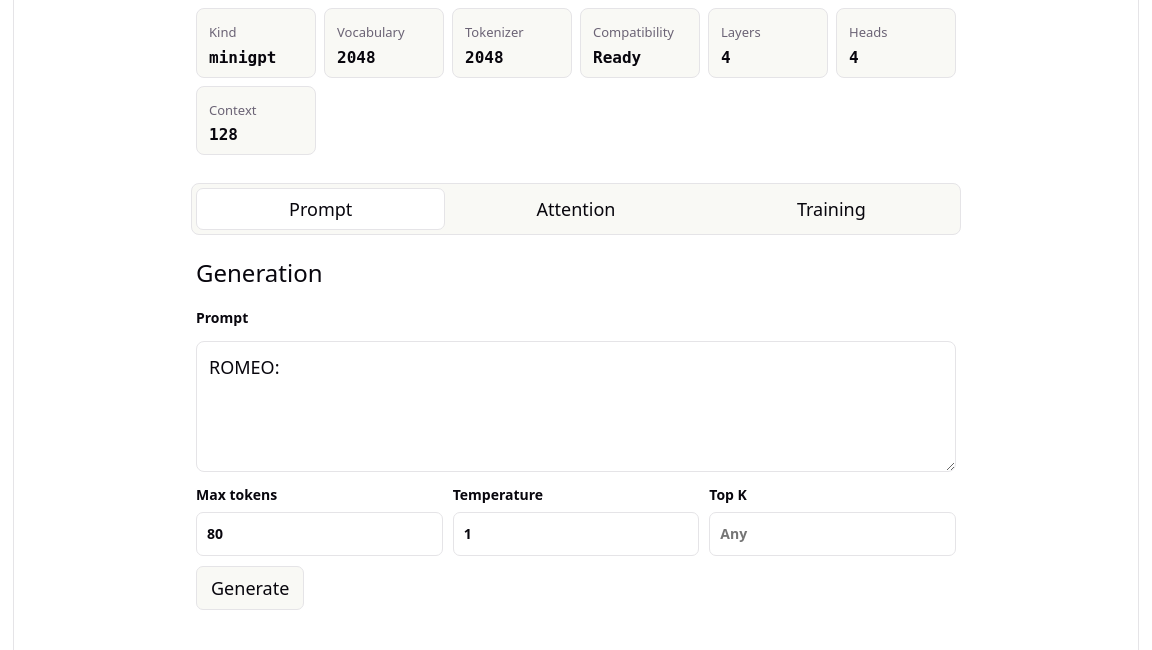
Test: attention UI behavior › highlights the attention row for selected tokens inside the attention context window
(page scrolled)
Click the button "Generate": [250, 588] box [196,566,304,610]
(page scrolled)
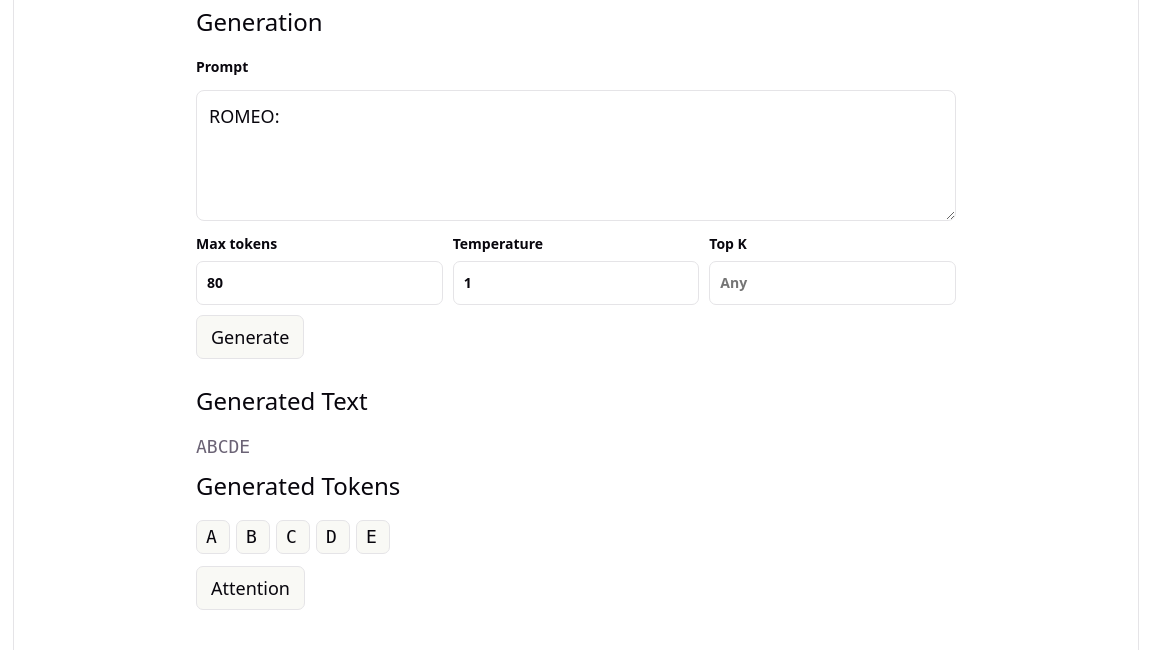
Now the text "ABCDE" is shown, box [196,436,250,457]
Click the button "D": [333, 537] box [316,520,350,554]
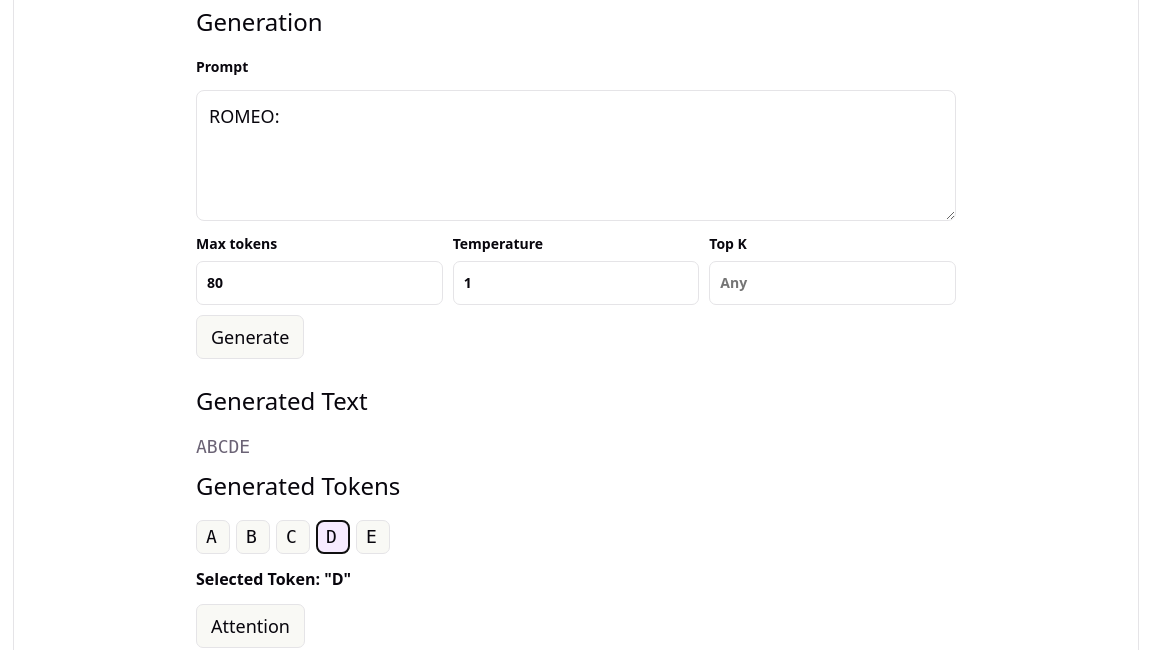
Click the button "Attention": [250, 626] box [196,604,305,648]
(page scrolled)
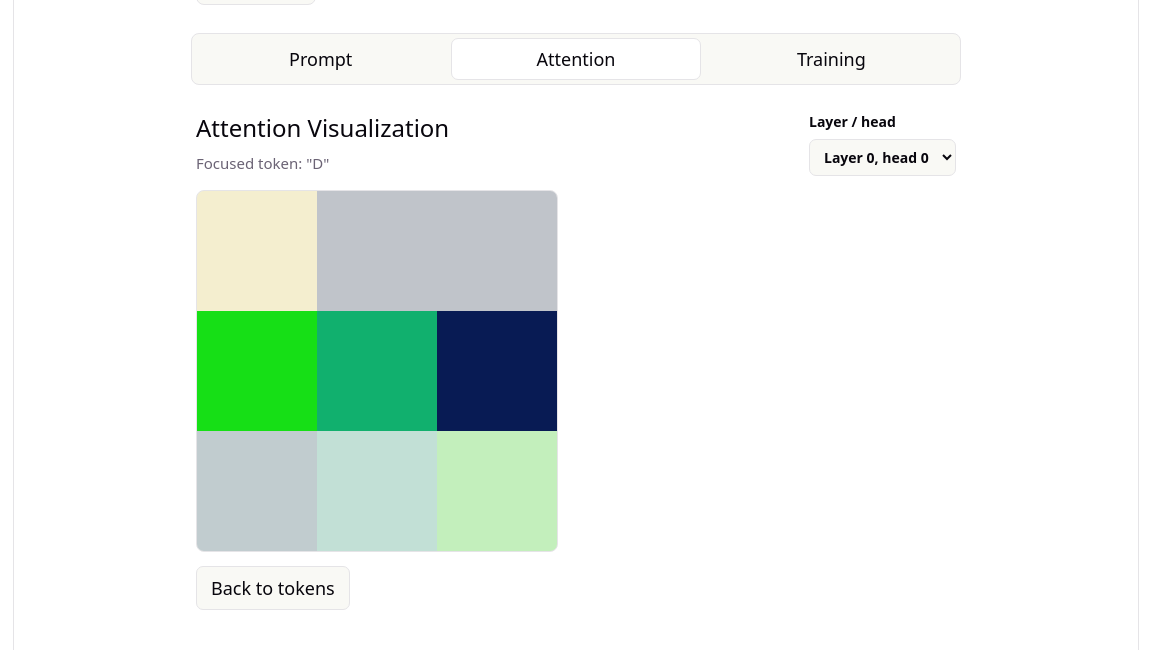
Now the text "Focused token: \"D\"" is shown, box [196,153,330,173]
